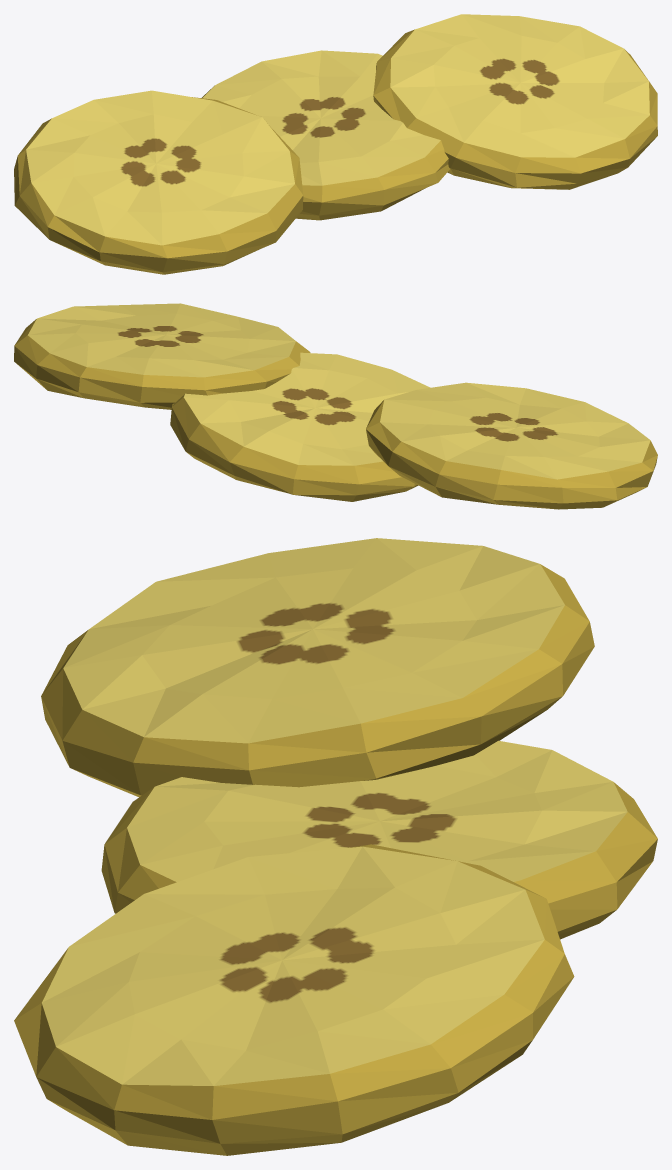
File: banana.glb
3 renders of one model, top to bottom at view 1: azimuth 30°, elevation 25°; view 2: azimuth 150°, elevation 25°; view 3: azimuth 270°, elevation 25°, orthographic. The views are drawn at different scales.
Size of the model in its own units: 2.86 by 0.3474 by 1.39.
2 materials, 1 textured.
